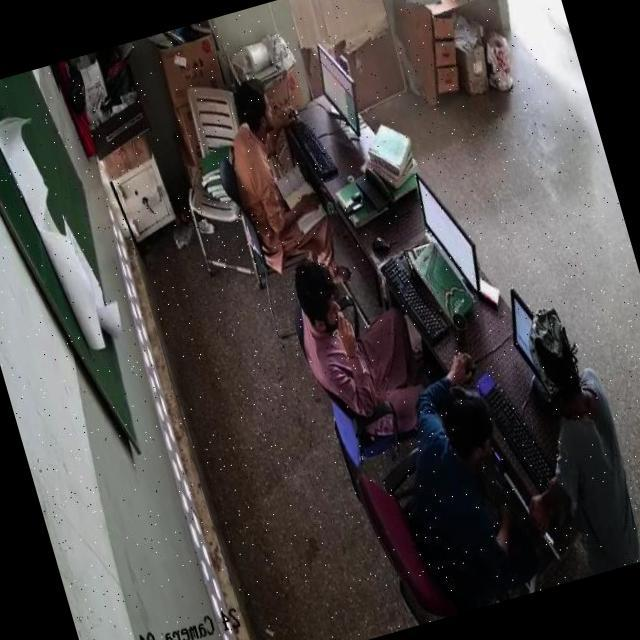person: (374, 350, 538, 590), (504, 293, 640, 566), (284, 234, 430, 443), (218, 70, 324, 256)
